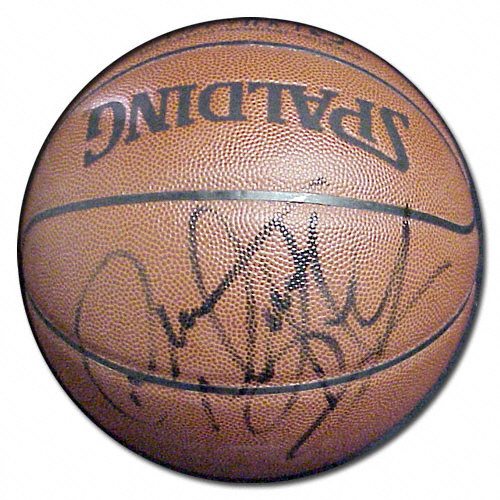basketball: (21, 17, 481, 486)
